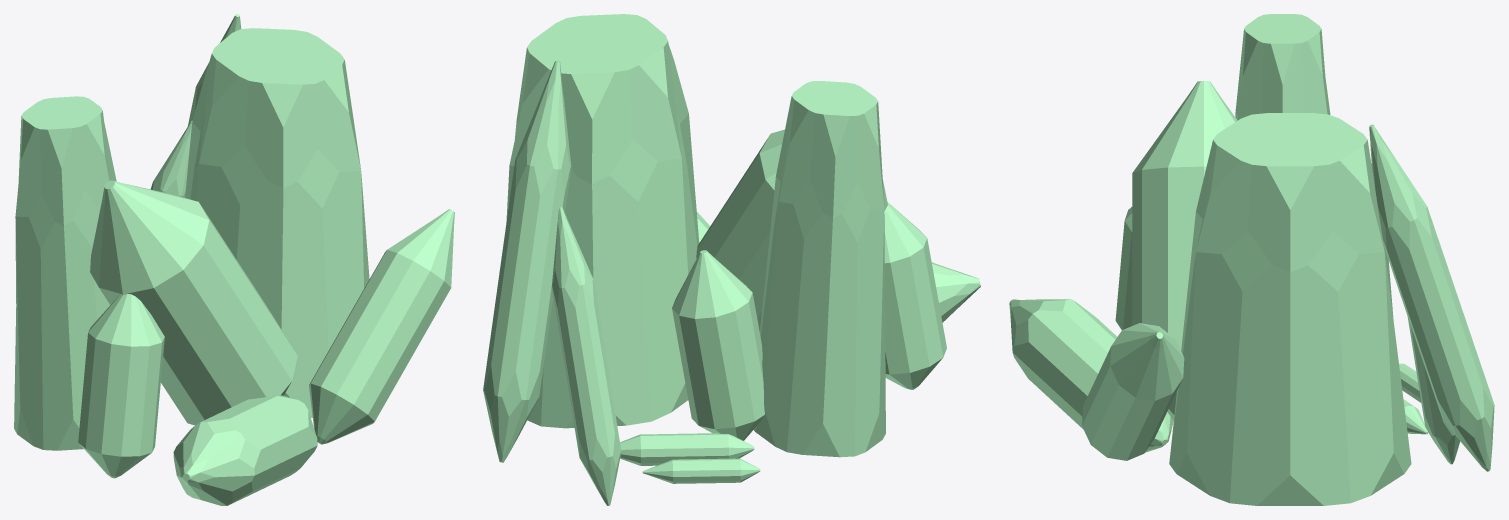
The model's file is GreenCrystalCluster.fbx.
3 views of the same model, side by side, from view 1: azimuth 30°, elevation 25°; view 2: azimuth 150°, elevation 25°; view 3: azimuth 270°, elevation 25° (orthographic). The views are drawn at different scales.
Visible parts, largest first — view 1: CrystalCluster; view 2: CrystalCluster; view 3: CrystalCluster.
Boxes of the visible parts, <box> form: CrystalCluster: <box>14,14,454,505</box>; CrystalCluster: <box>483,14,980,505</box>; CrystalCluster: <box>1009,14,1494,505</box>.
Size of the model in its own units: 351 by 327 by 375.
